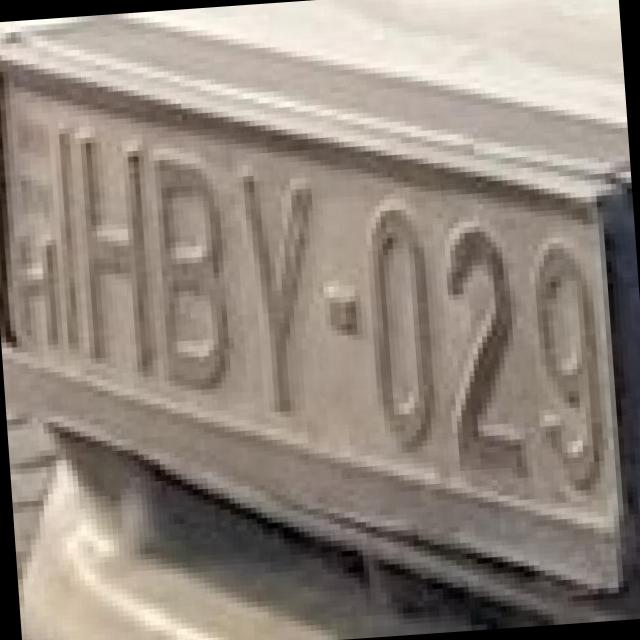0: (342, 186, 444, 462)
2: (422, 207, 532, 478)
9: (505, 223, 607, 504)
B: (132, 132, 242, 398)
H: (52, 105, 163, 376)
Y: (220, 154, 332, 420)
